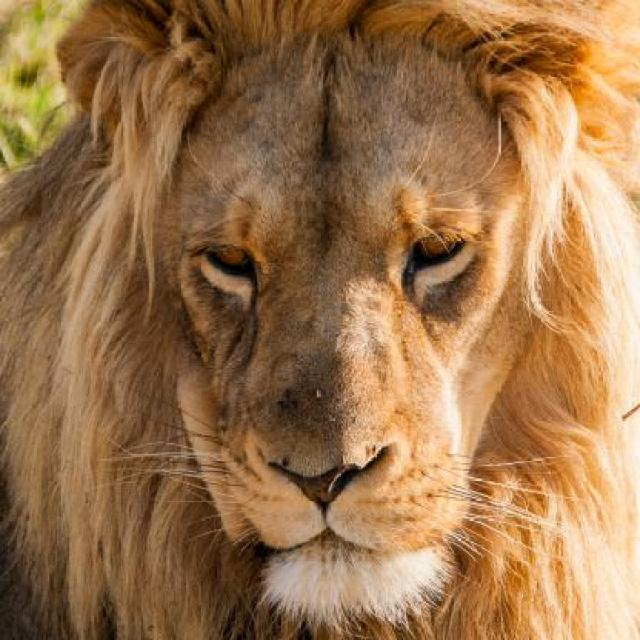Lion: (48, 11, 637, 638)
